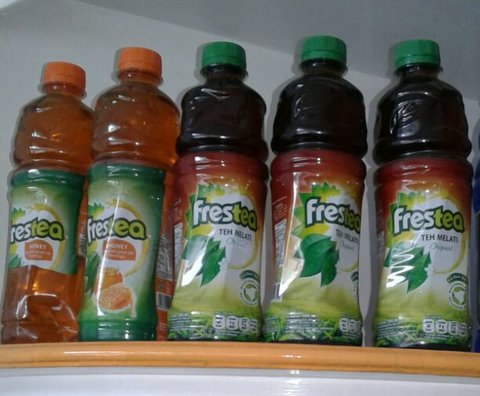botol: (166, 41, 276, 339), (264, 40, 372, 340), (264, 35, 366, 340), (373, 40, 473, 351), (264, 40, 366, 340), (166, 41, 268, 339), (377, 40, 473, 351), (81, 49, 181, 339), (0, 61, 93, 343), (0, 65, 93, 343)
